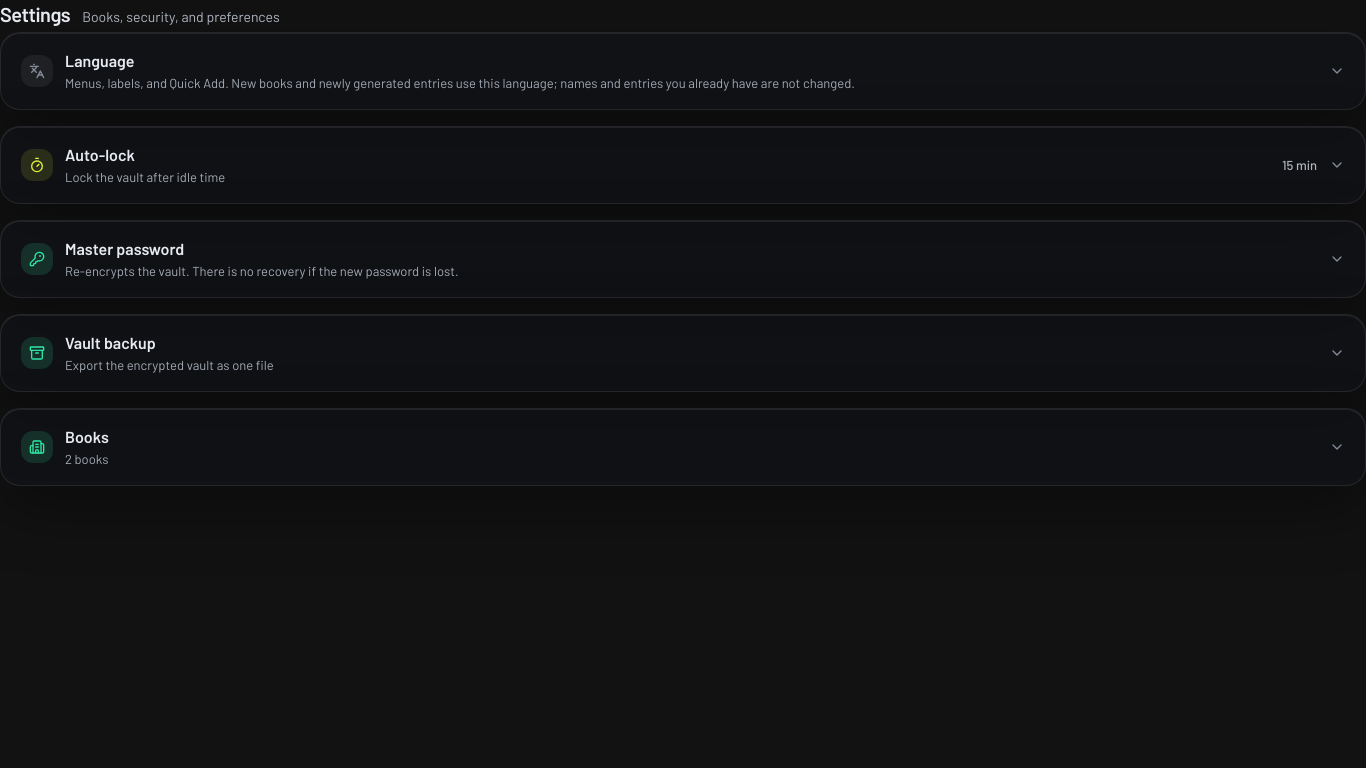
Test: SettingsPage archiving a book › cancelling archives nothing and hands focus back to the button
Click the button "Books 2 books". click: coordinates (37, 447)
box: [1, 409, 1365, 485]
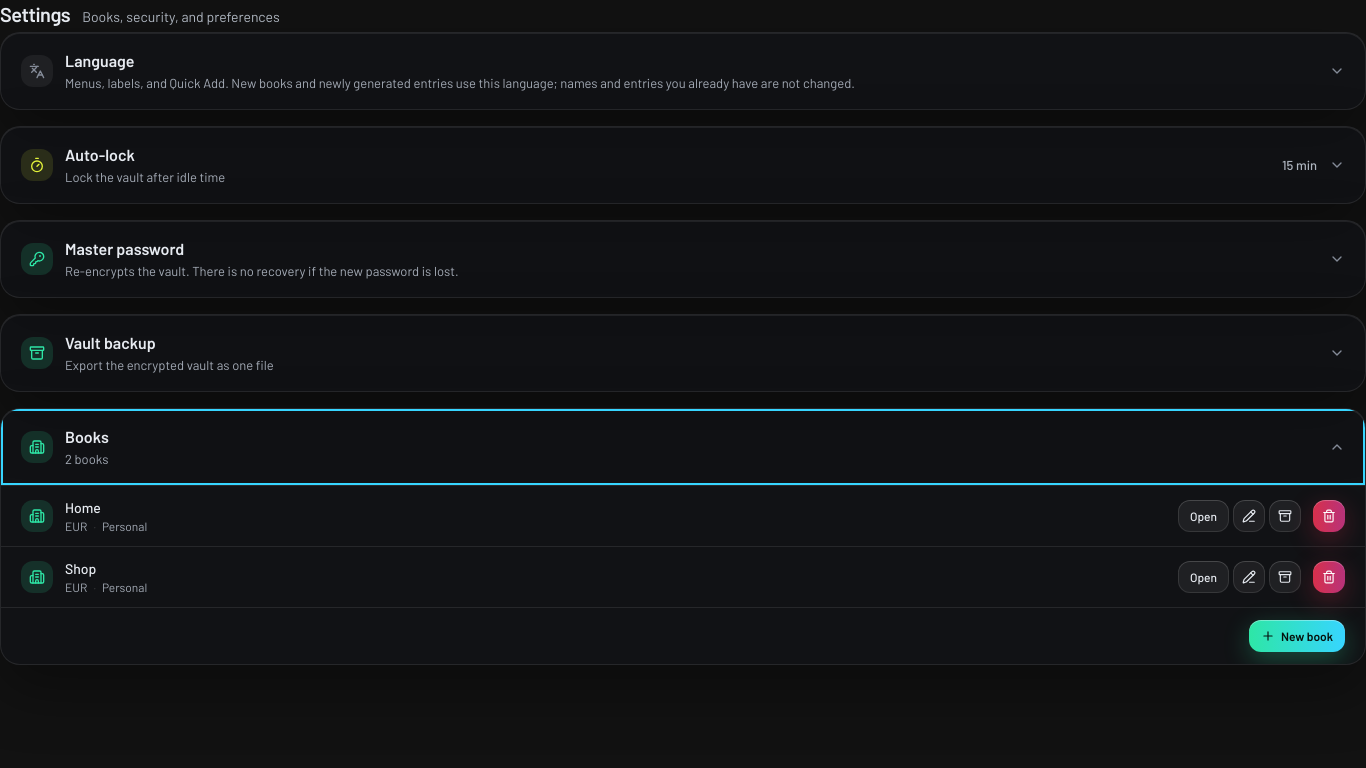
Click the button named "Archive Home". click: coordinates (1285, 516)
box: [1269, 500, 1301, 532]
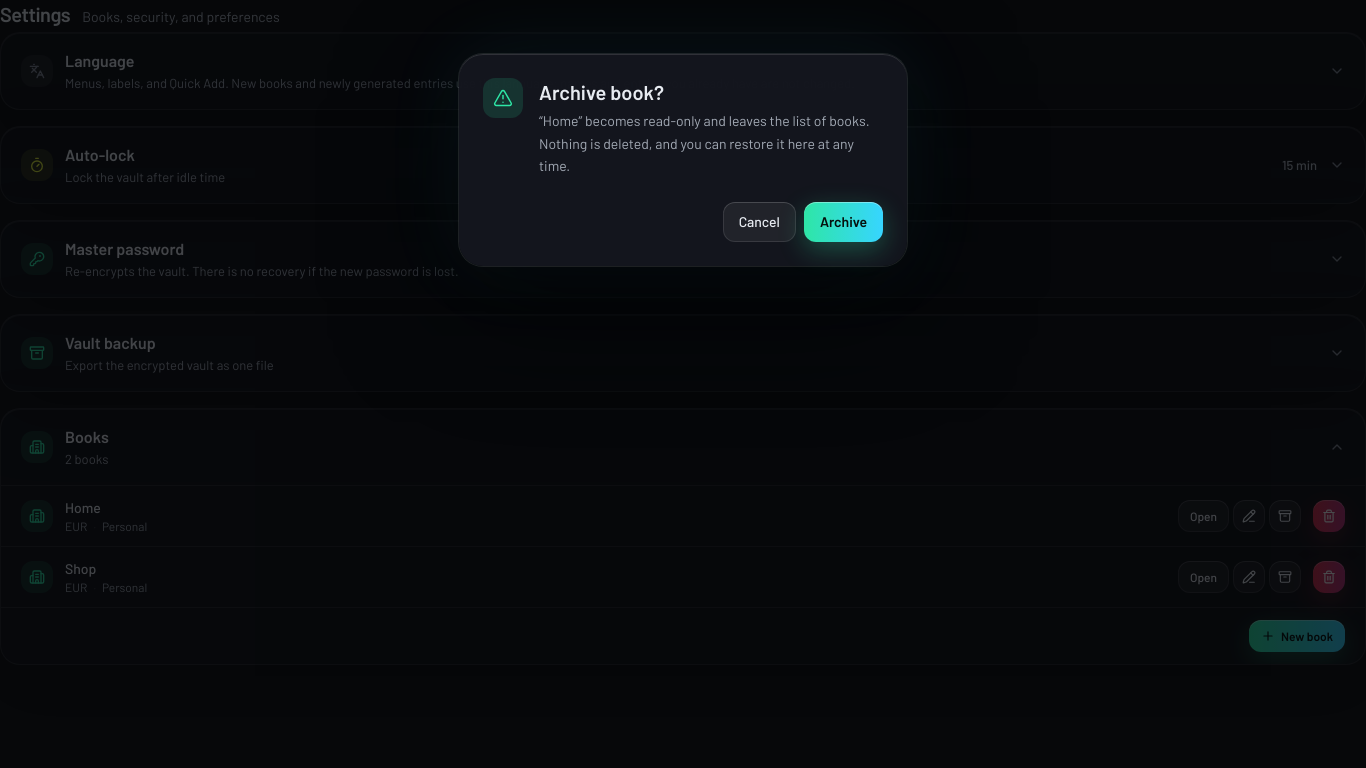
Click the button "Cancel". click: coordinates (759, 222)
box: [723, 202, 796, 242]
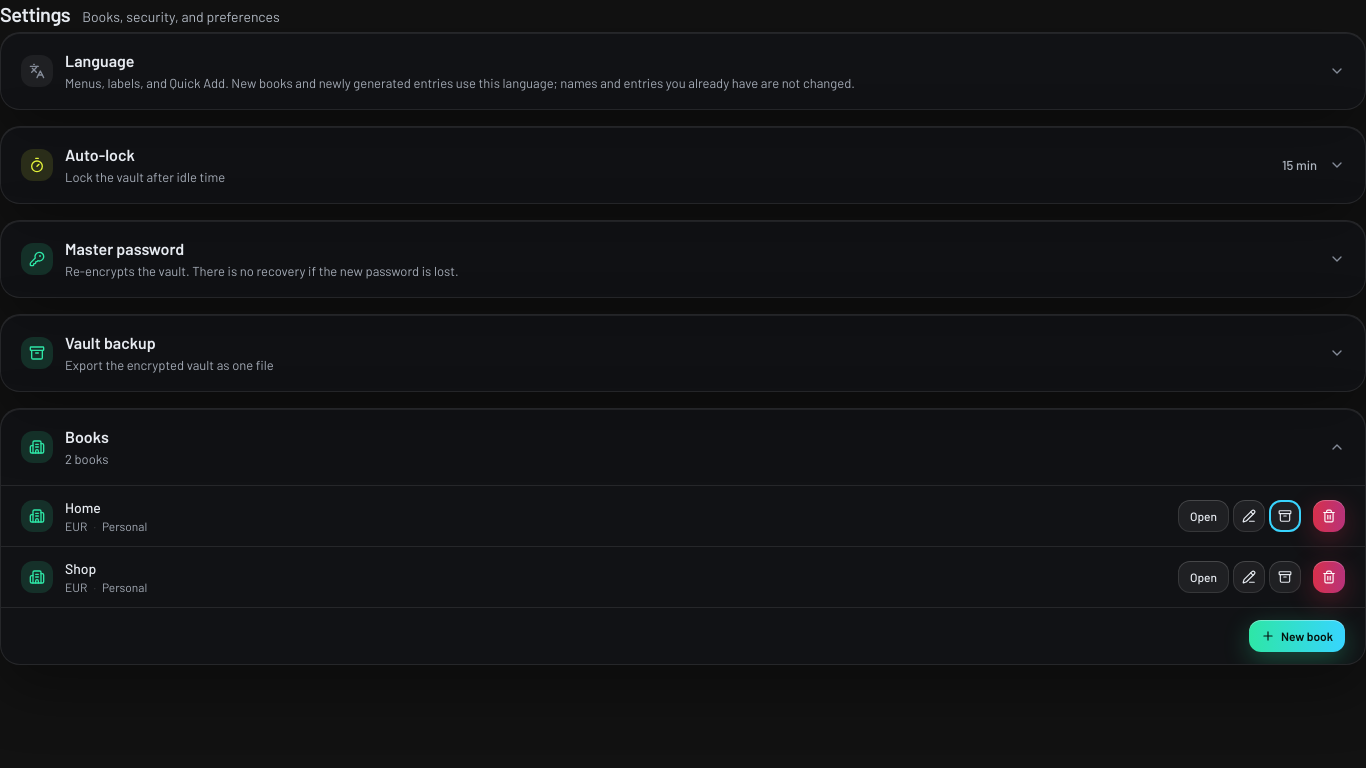
Result: the dialog is gone
